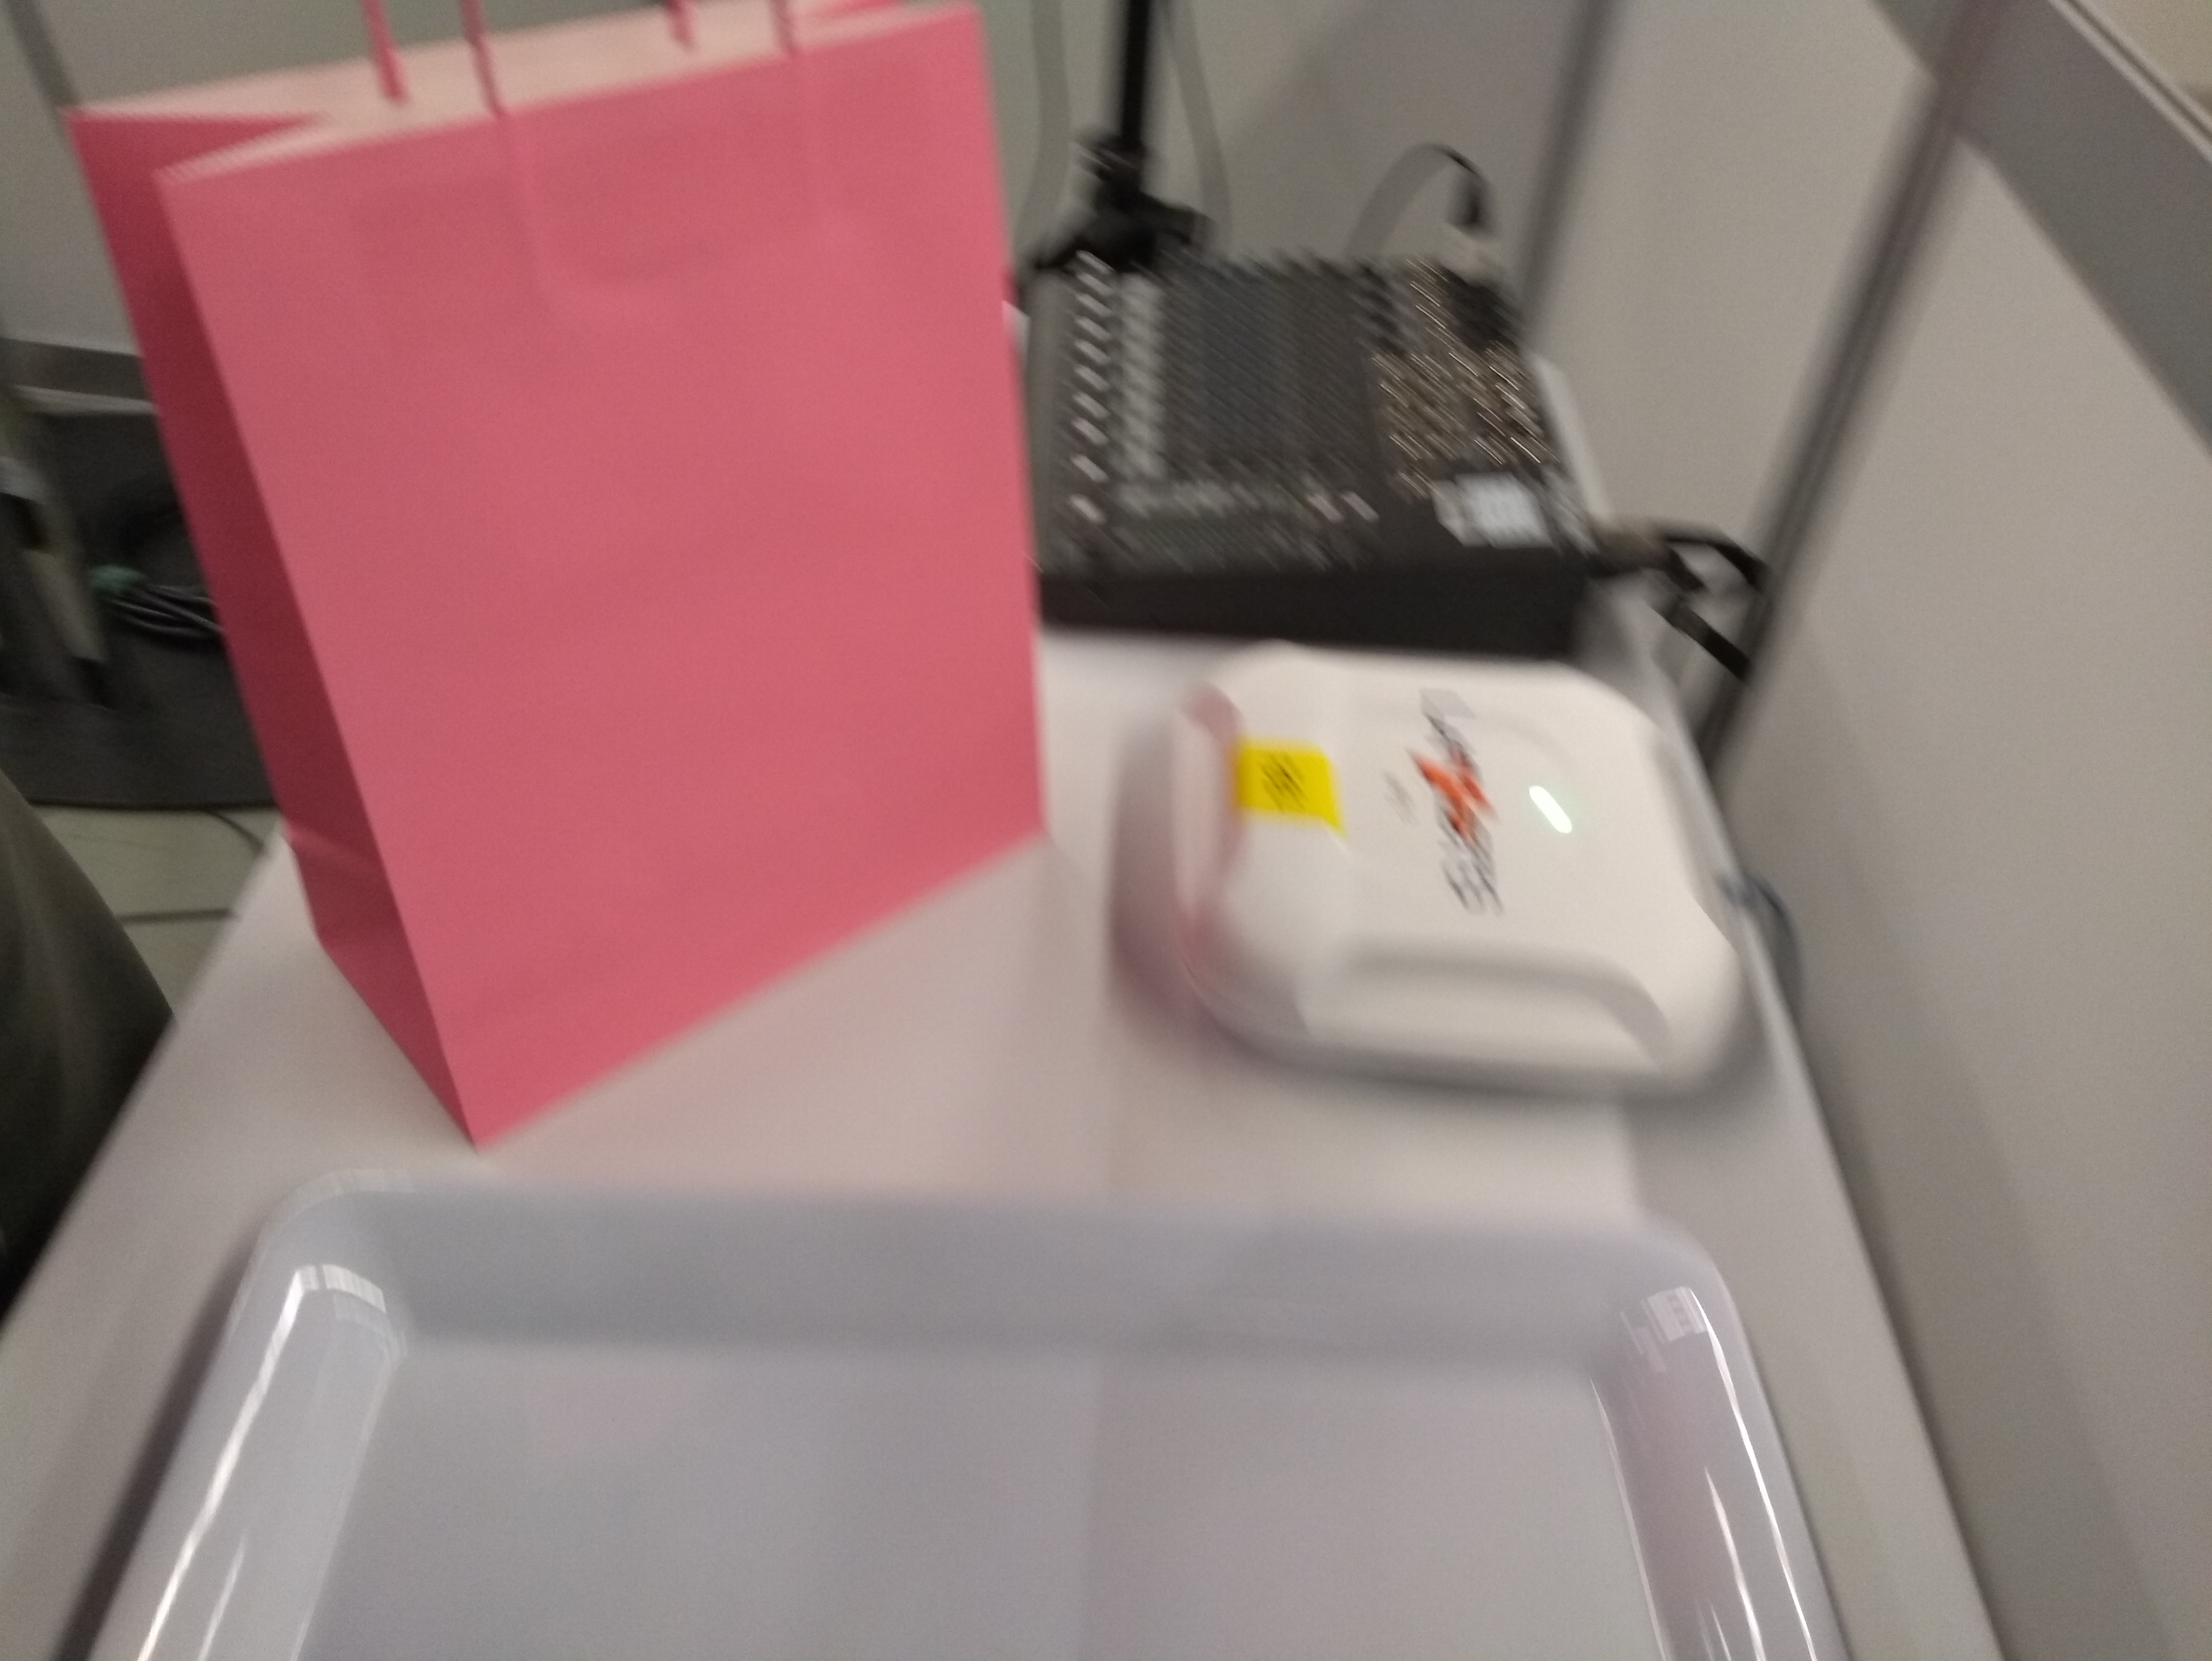help_me_carry_opl: (66, 0, 1057, 1159)
tray: (82, 1136, 1853, 1661)
